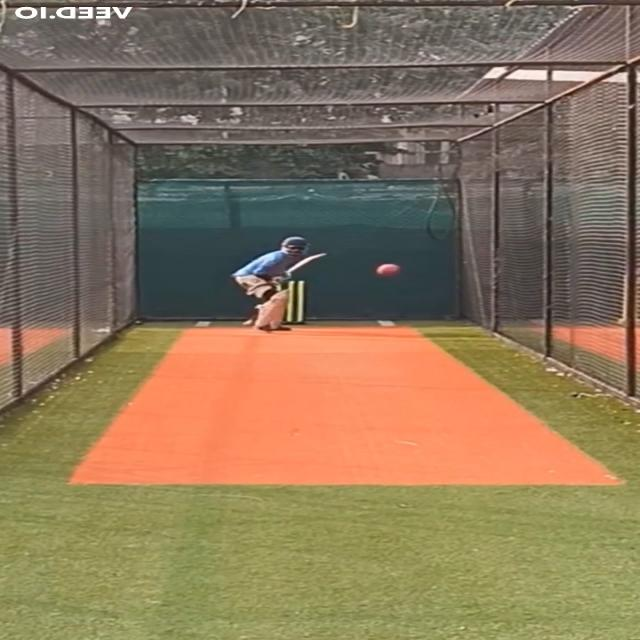ball: (374, 263, 402, 278)
stump: (274, 280, 306, 324)
